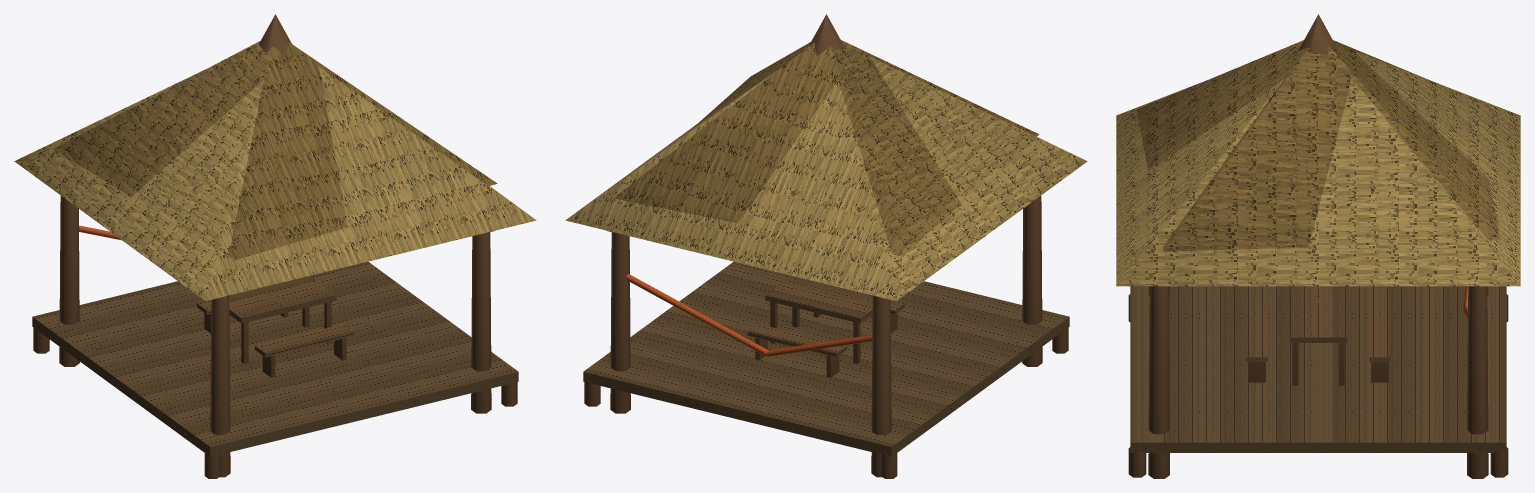
File: cabana_de_palha.glb
The picture shows the model from 3 angles, left to right: view 1: azimuth 30°, elevation 25°; view 2: azimuth 150°, elevation 25°; view 3: azimuth 270°, elevation 25°; orthographic projection. The views are drawn at different scales.
Visible parts, largest first — view 1: cabana_de_palha, cabana_de_palha_madeira; view 2: cabana_de_palha, cabana_de_palha_madeira; view 3: cabana_de_palha, cabana_de_palha_madeira.
Boxes of the visible parts, x1,y1,x2,y2 form: cabana_de_palha: (14,14,536,478); cabana_de_palha_madeira: (32,231,518,456); cabana_de_palha: (565,14,1087,478); cabana_de_palha_madeira: (583,231,1069,456); cabana_de_palha: (1116,14,1520,478); cabana_de_palha_madeira: (1130,286,1506,452).
Bounding box in the file's own units: 5.59 × 6 × 5.59.
4 materials, 3 textured.
